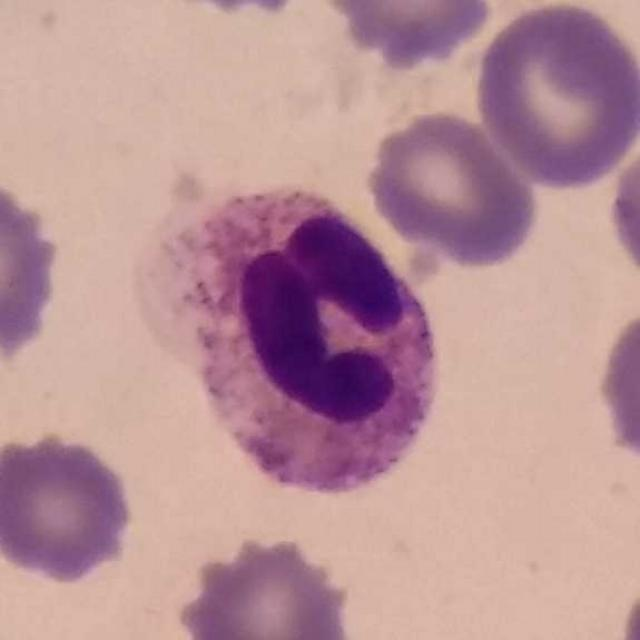Neutrophil: (143, 159, 445, 510)
RBC: (469, 1, 640, 190), (362, 106, 543, 269), (0, 426, 140, 586), (170, 527, 361, 640), (0, 169, 68, 366), (314, 0, 499, 67), (592, 299, 640, 473), (603, 115, 640, 297), (614, 571, 640, 640)
